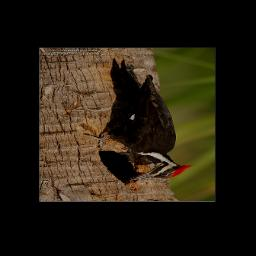Woodpecker: (83, 58, 195, 181)
